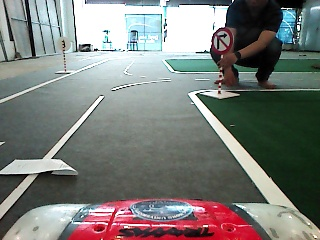ban_right: (212, 28, 234, 54)
